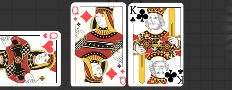9D: (71, 4, 79, 22)
KC: (129, 5, 138, 25)
